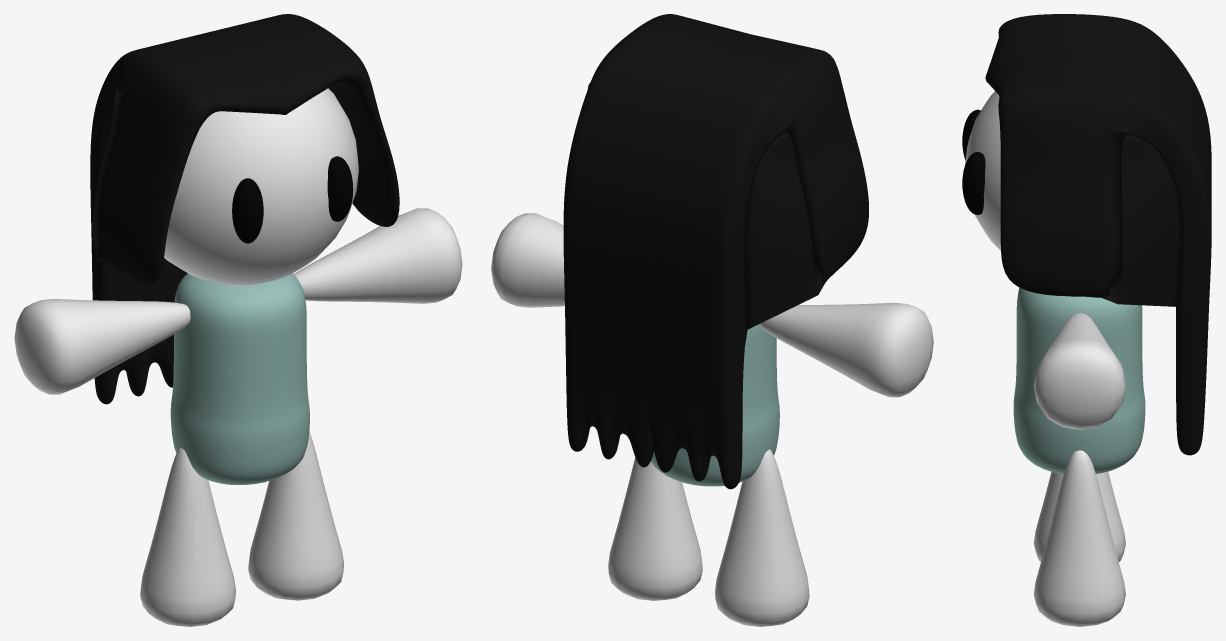
Rendered from Doll.fbx.
3 renders of one model, left to right at view 1: azimuth 30°, elevation 25°; view 2: azimuth 150°, elevation 25°; view 3: azimuth 270°, elevation 25°, orthographic. The views are drawn at different scales.
Parts seen in each view (by area): view 1: Cube; view 2: Cube; view 3: Cube.
Boxes of the visible parts, x1,y1,x2,y2 form: Cube: (14, 14, 462, 626); Cube: (491, 14, 933, 626); Cube: (962, 14, 1211, 626).
Size of the model in its own units: 412 by 520 by 217.
